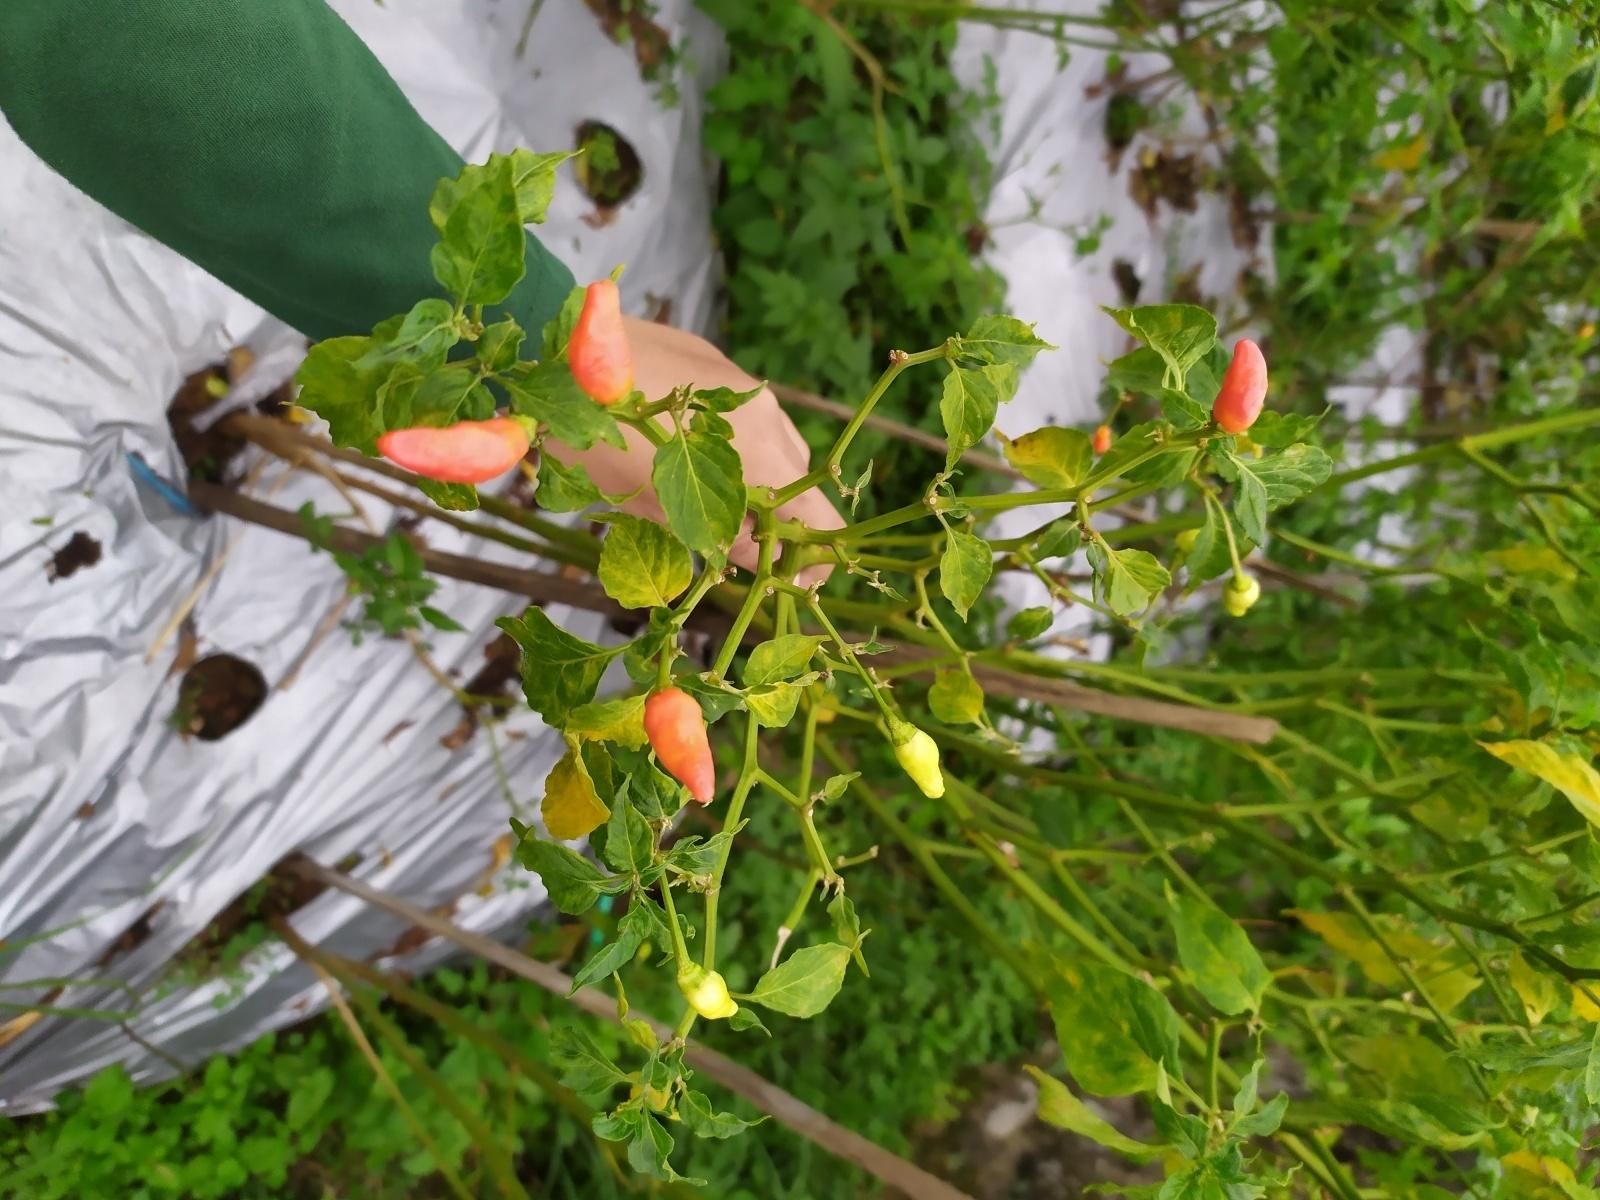cabai_normal: (377, 416, 533, 484), (641, 684, 716, 803), (567, 279, 634, 405), (1213, 339, 1269, 435), (891, 724, 945, 800), (677, 963, 738, 1020)
